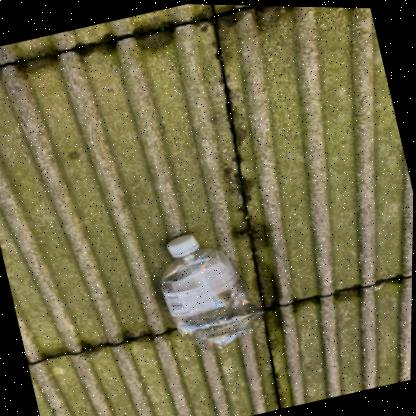Plastic: (162, 233, 263, 349)
